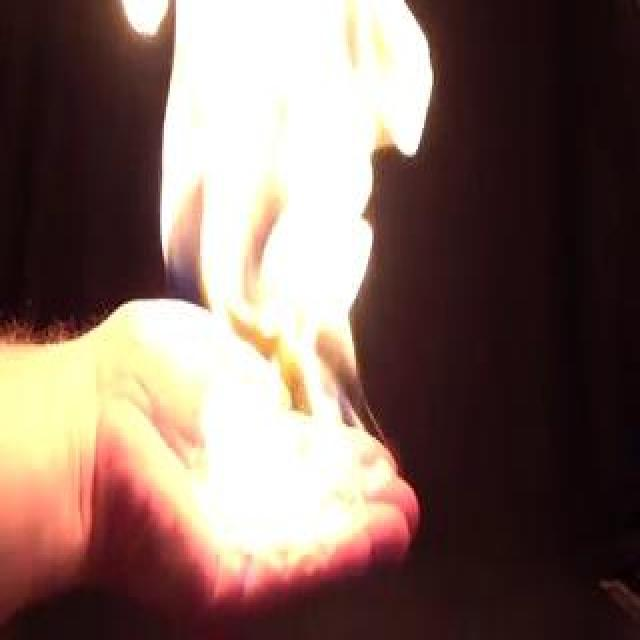Fire: (145, 3, 419, 541)
